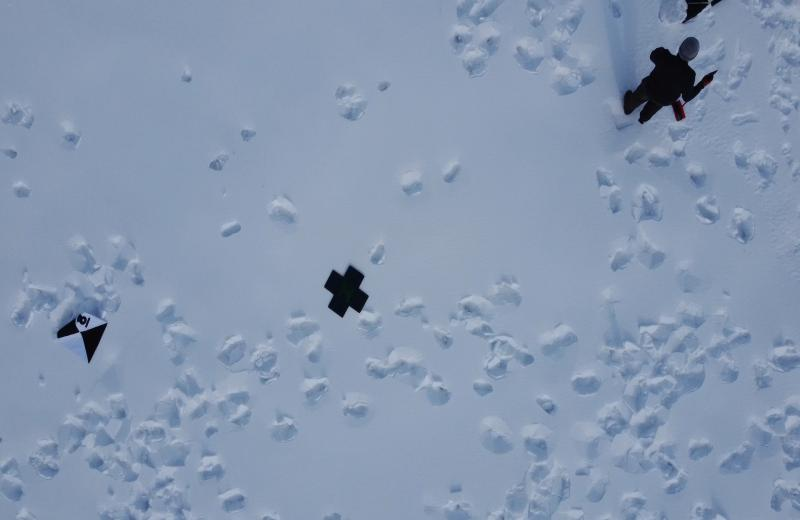Cross: (325, 264, 369, 318)
